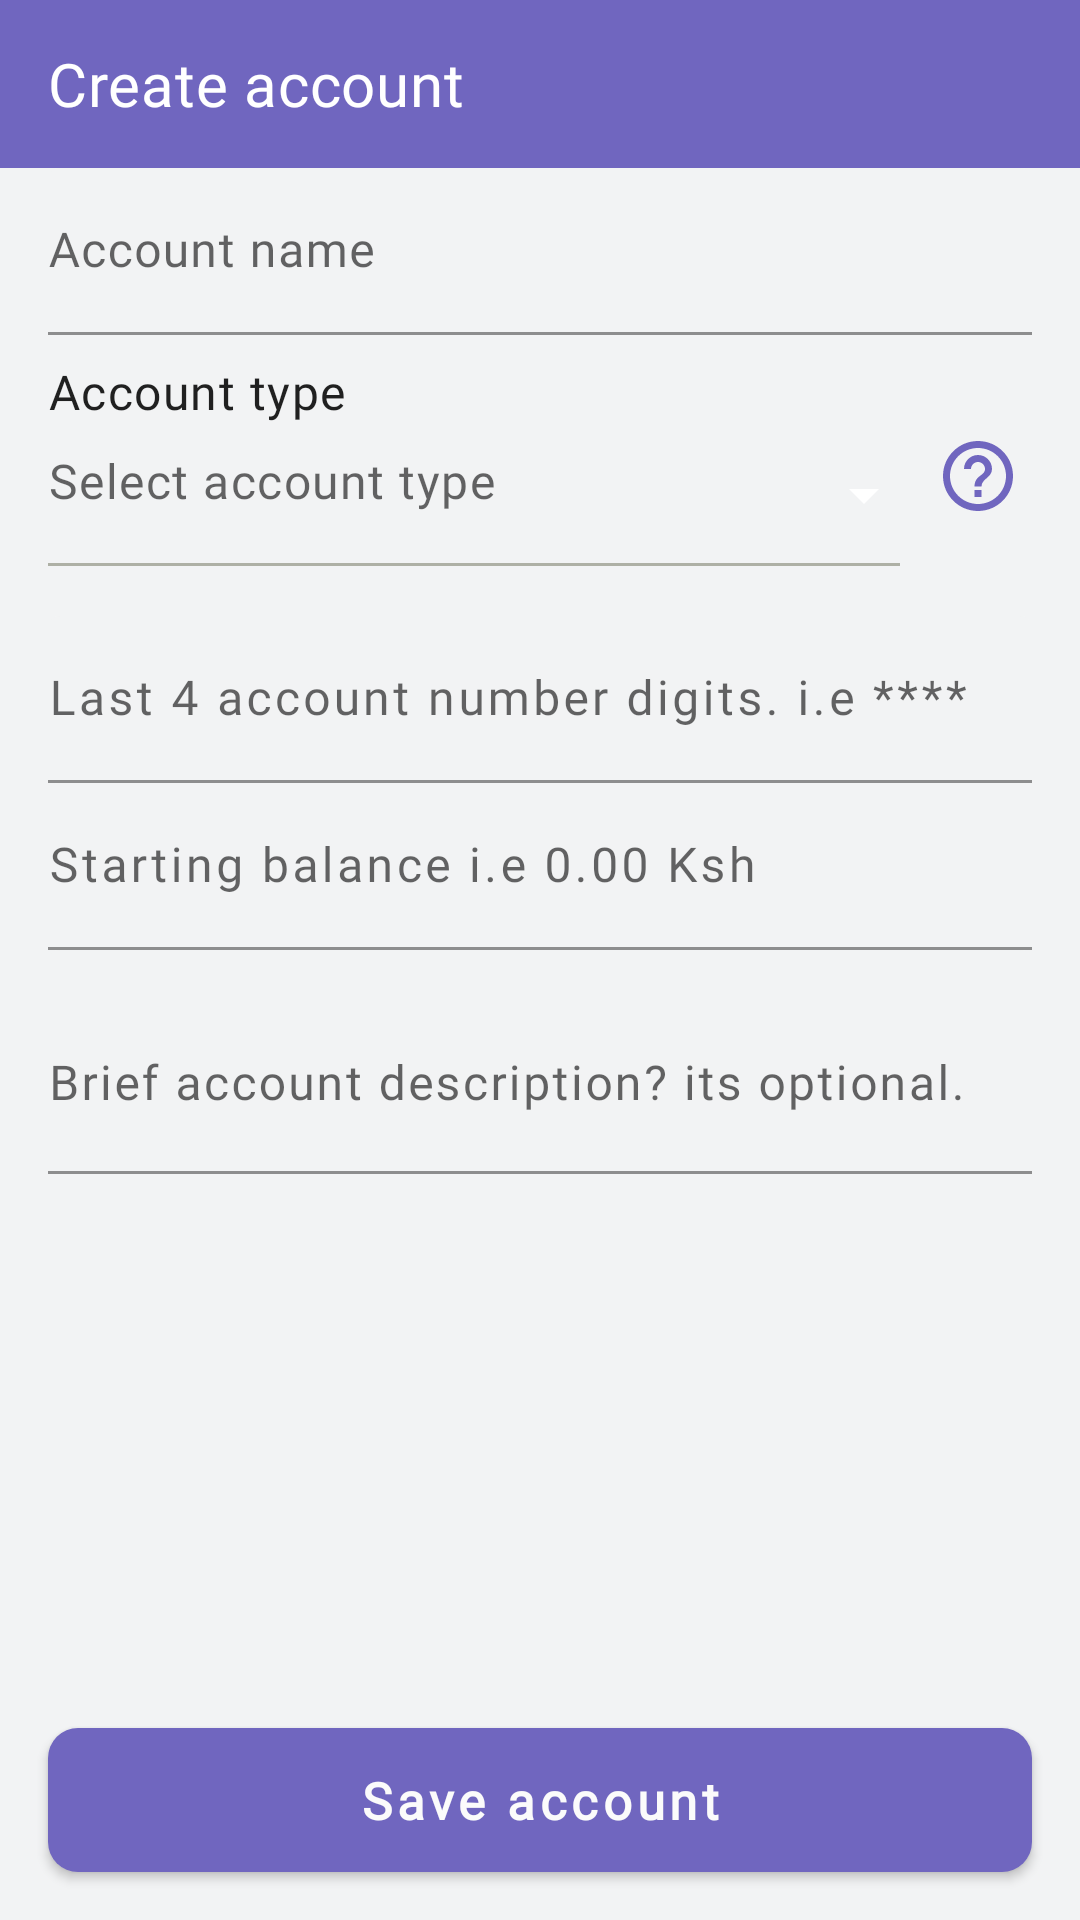

Icon bounding boxes for this 1080px x 1920px phone screenshot, format region(x1, y1, x2, y2):
help: region(943, 441, 1013, 511)
